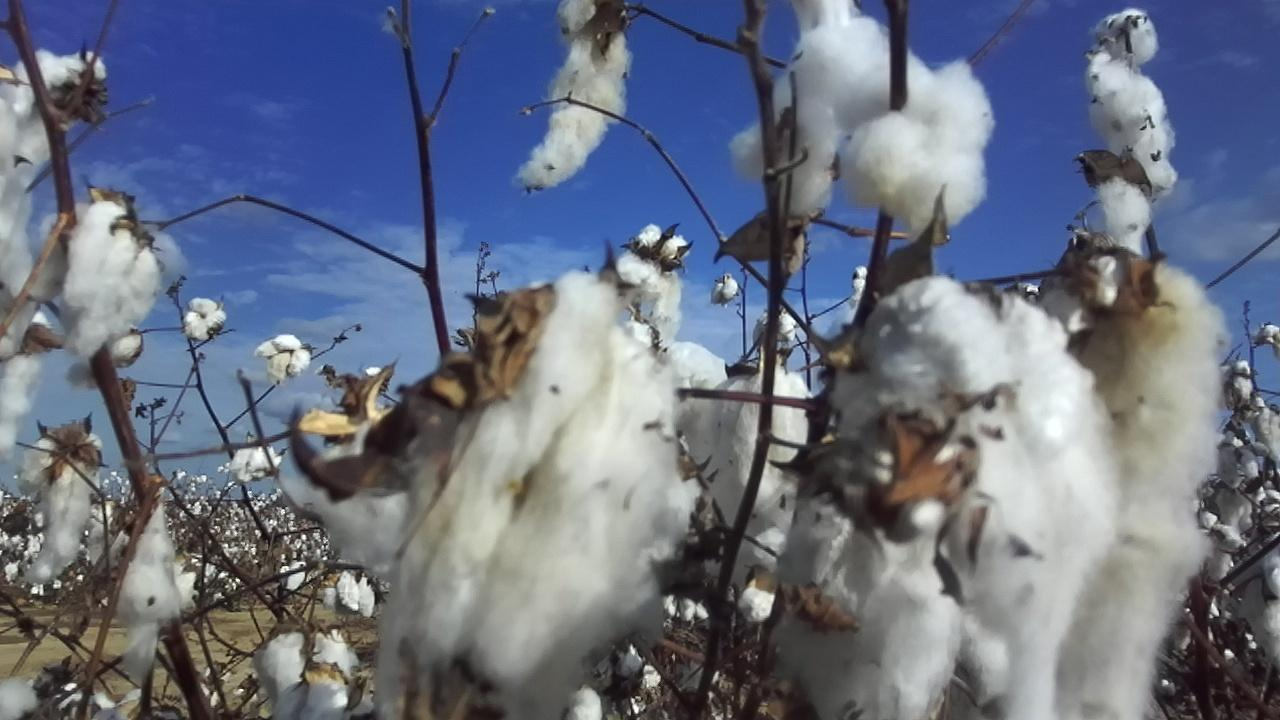cotton_ready: (376, 275, 680, 720), (833, 279, 1122, 720), (1029, 250, 1234, 720), (781, 444, 965, 720), (730, 0, 933, 220), (0, 50, 107, 358), (1082, 9, 1179, 303), (841, 57, 994, 235), (697, 370, 819, 585), (517, 0, 632, 190), (277, 424, 419, 570), (617, 317, 730, 485), (57, 202, 164, 365), (119, 502, 199, 683), (23, 430, 105, 587), (255, 627, 375, 720), (0, 310, 55, 465), (617, 222, 692, 333), (64, 324, 145, 390), (1239, 550, 1280, 668), (0, 682, 120, 720), (255, 330, 310, 385), (322, 570, 376, 619), (229, 444, 281, 482)
